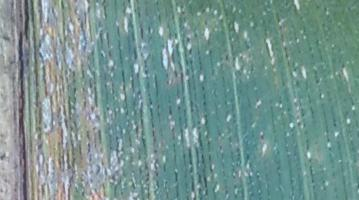tarspot: (339, 62, 346, 75), (1, 151, 8, 163), (1, 34, 11, 42), (331, 120, 338, 131), (314, 77, 321, 87), (184, 35, 192, 43), (186, 47, 193, 56), (295, 119, 302, 128), (224, 52, 230, 62), (259, 131, 265, 141), (314, 3, 321, 10), (104, 106, 111, 112), (76, 16, 81, 22), (18, 12, 23, 18)
